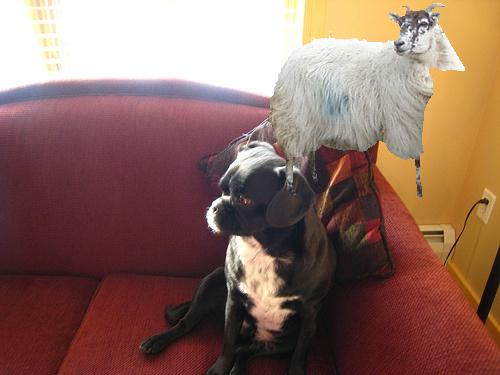tampered: (269, 4, 465, 197)
